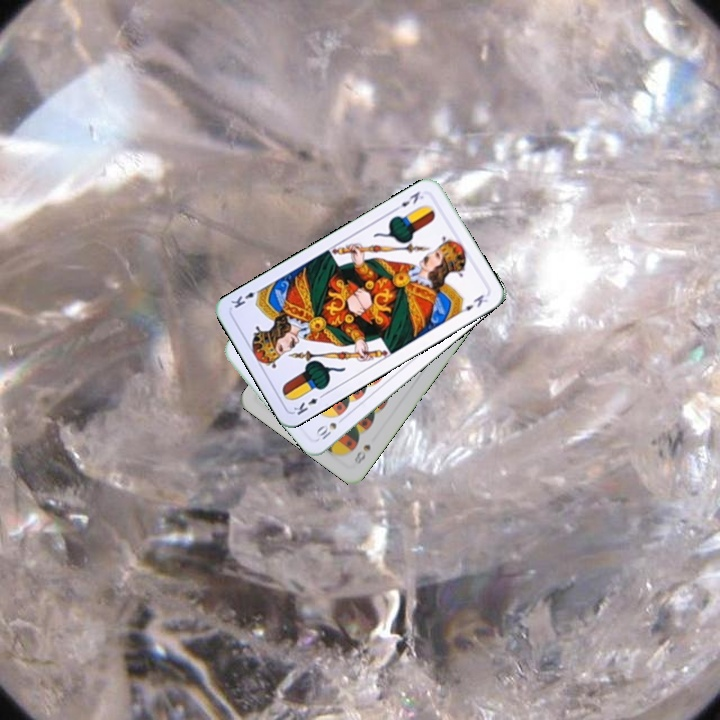EK: (290, 389, 328, 418), (390, 187, 426, 214)
S10: (312, 413, 348, 442)
S8: (350, 440, 374, 467)
